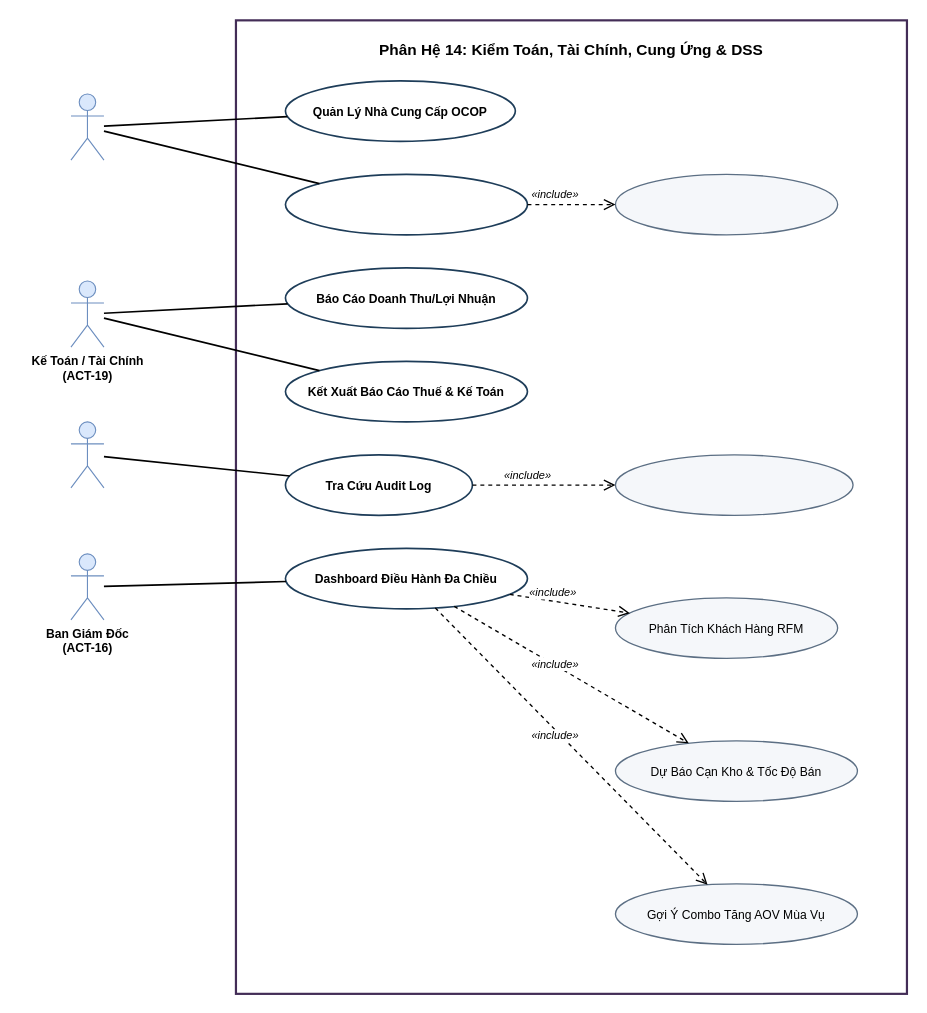
Some shapes in this 927 by 1013 pixel diagram are drawn without their labels. Here are the shapes that lost their labels. From the top down, the centre of each, then its label:
the point at 87,126: Quản Lý Cung Ứng (ACT-15)
the point at 406,204: Khởi Tạo PO Mua Nguyên Liệu
the point at 726,204: Nghiệm Thu & Nhập Kho PO
the point at 87,454: Chuyên Viên Kiểm Toán (ACT-18)
the point at 733,484: Xác Minh Hash Chain SHA256
